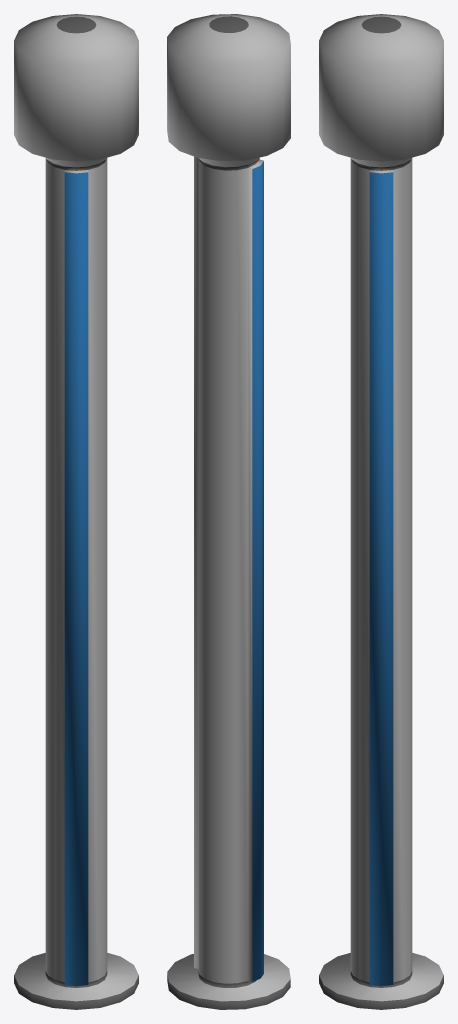
The model's file is Fence_Middle_Pole.fbx.
The picture shows the model from 3 angles, left to right: view 1: azimuth 90°, elevation 25°; view 2: azimuth 150°, elevation 25°; view 3: azimuth 270°, elevation 25°; orthographic projection.
Parts seen in each view (by area): view 1: Fence_Middle_Pole; view 2: Fence_Middle_Pole; view 3: Fence_Middle_Pole.
Boxes of the visible parts, left/top/right/bottom form: Fence_Middle_Pole: left=14, top=14, right=138, bottom=1009; Fence_Middle_Pole: left=167, top=14, right=290, bottom=1009; Fence_Middle_Pole: left=319, top=14, right=443, bottom=1009.
Size of the model in its own units: 20 by 170 by 20.
